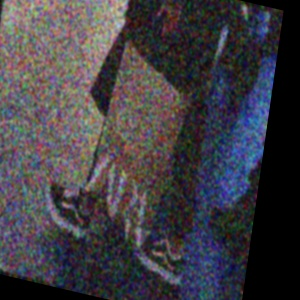zara: (104, 124, 244, 300)
